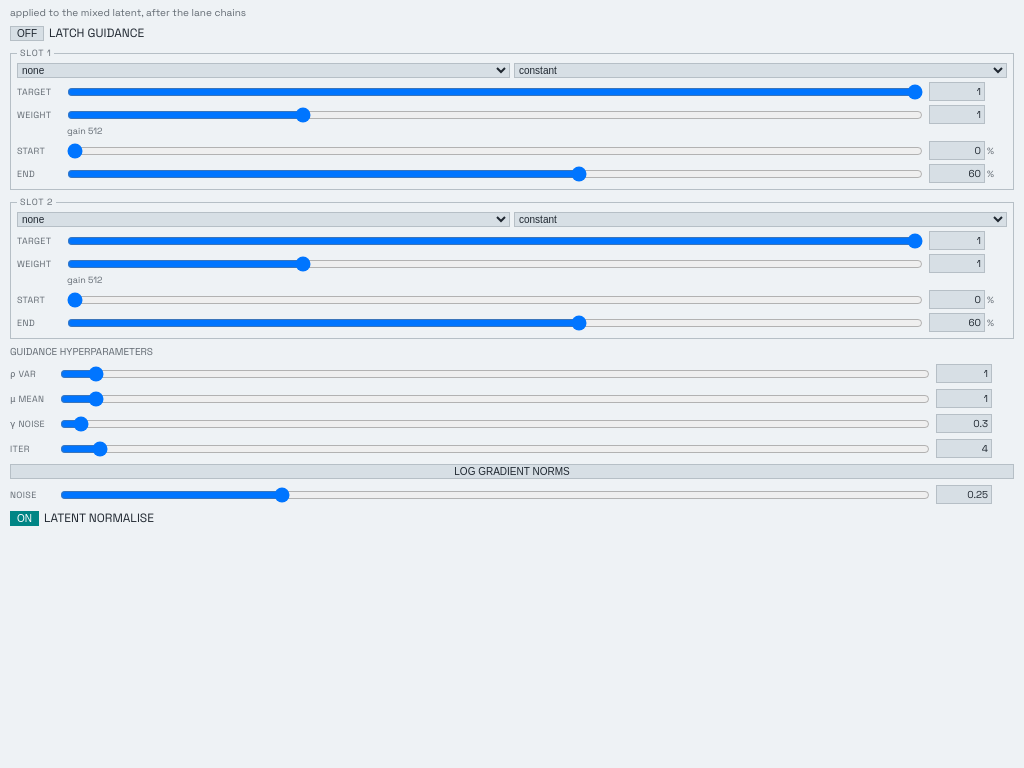
Test: MASTER CHAIN (spec §4.6.5) › takes a ramp with two ends, and the hardness weight limit, exactly as a lane does
This screenshot has width=1024, height=768.
Select "hardness · medium" in the dropdown named "MASTER HEAD — slot 1" at (264,70), box [17, 63, 510, 78]
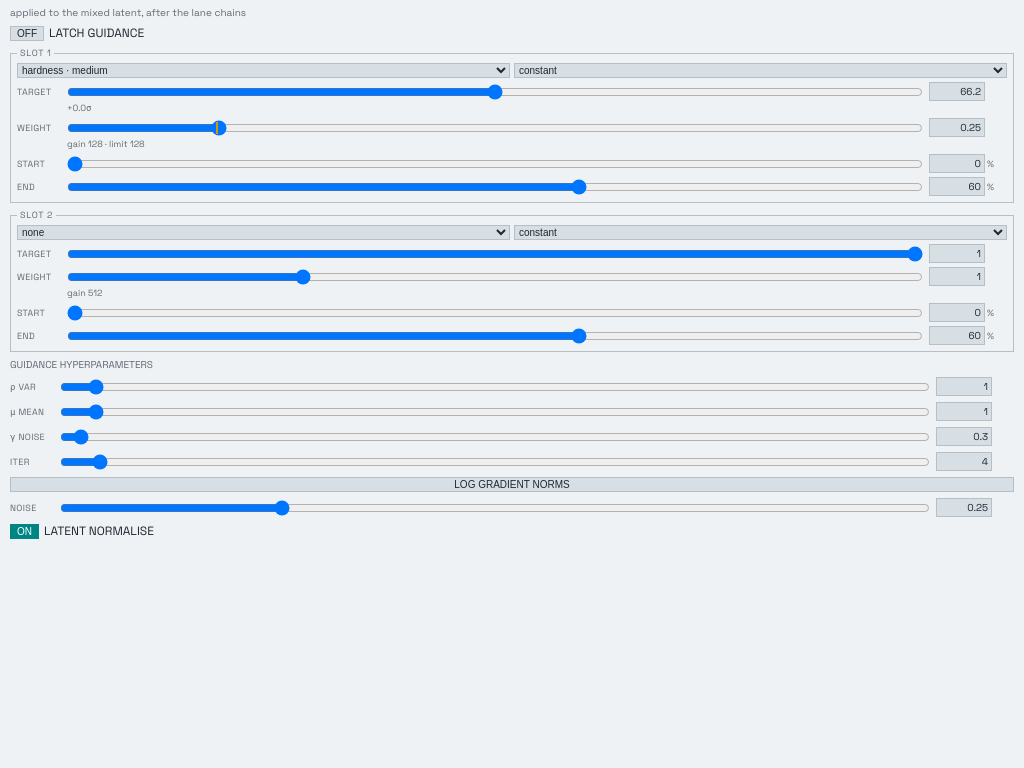
Select "ramp_up" in the dropdown named "MASTER KIND — slot 1" at (760,70), box [514, 63, 1007, 78]
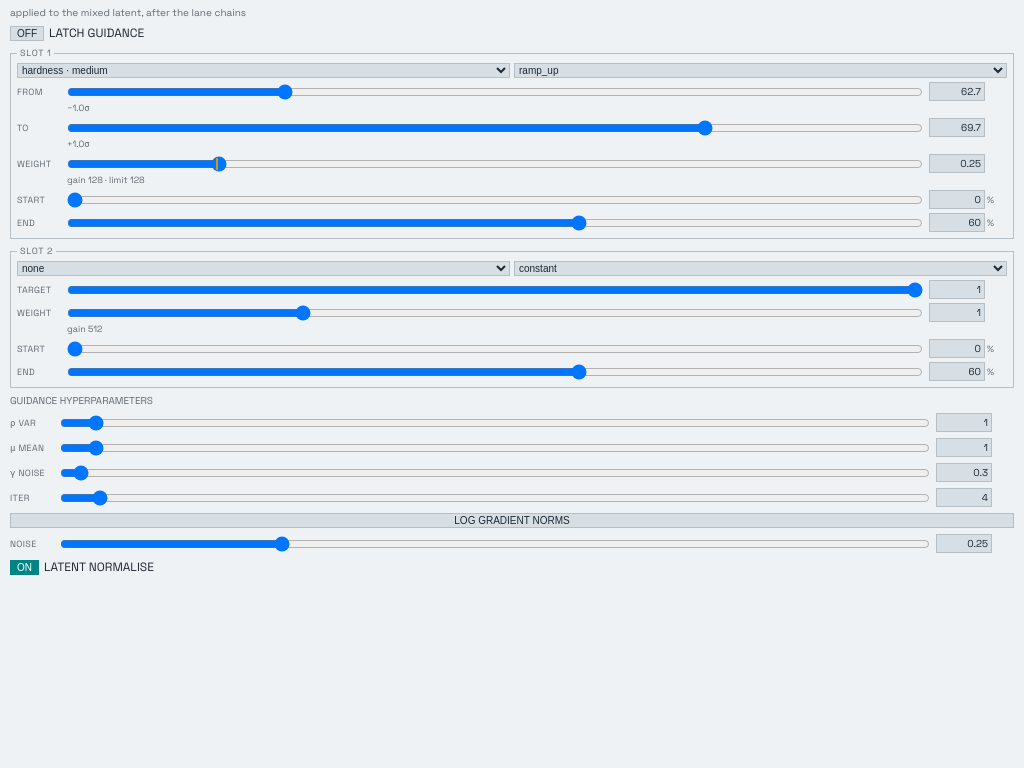
Check: the number field named "MASTER FROM — slot 1" is shown, box [929, 82, 985, 101]
